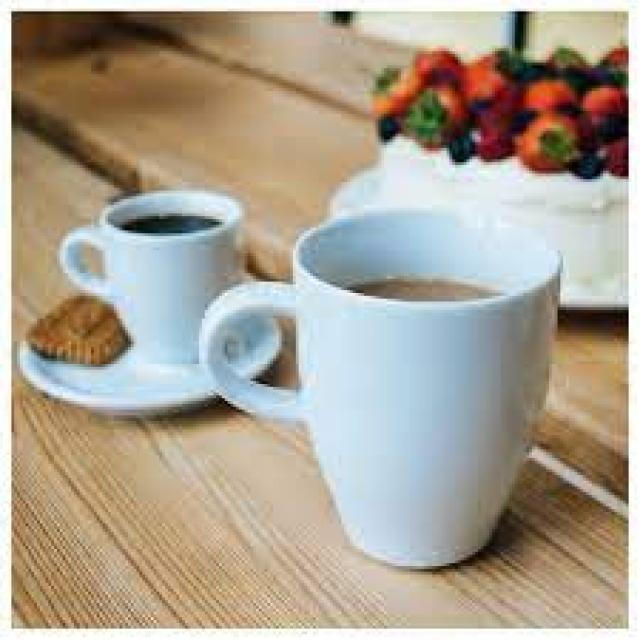taza: (194, 193, 574, 574), (38, 184, 246, 374)
